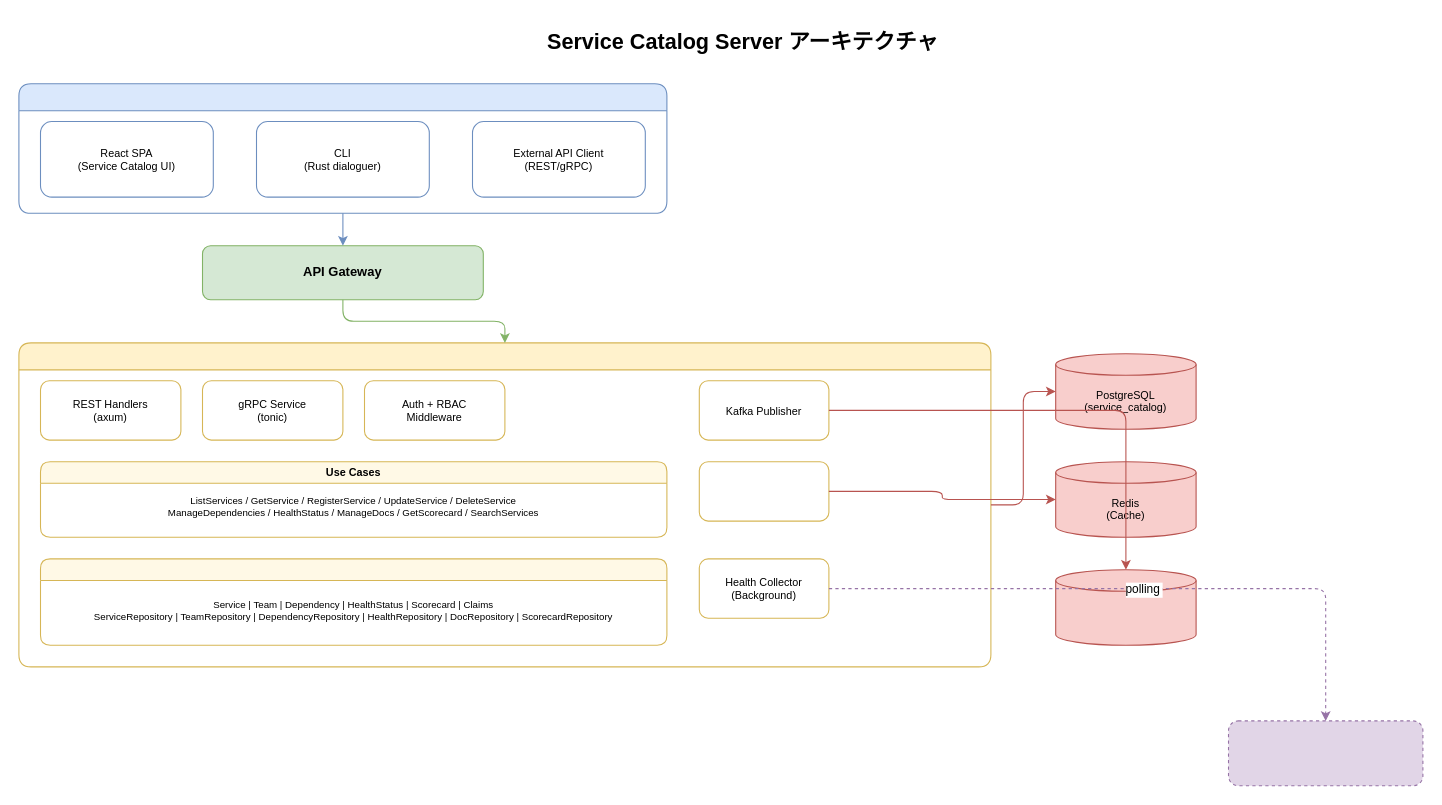
The diagram is 1442 pixels wide and 805 high, and some of its shapes have lost their labels. Each missing label, with the box of its shape:
Client Layer: (18, 83, 667, 213)
Domain: (39, 558, 667, 645)
External Services (/healthz endpoints): (1227, 720, 1423, 786)
Kafka (Events): (1055, 569, 1196, 645)
Redis Cache: (698, 461, 829, 521)
Service Catalog Server: (18, 342, 991, 667)
